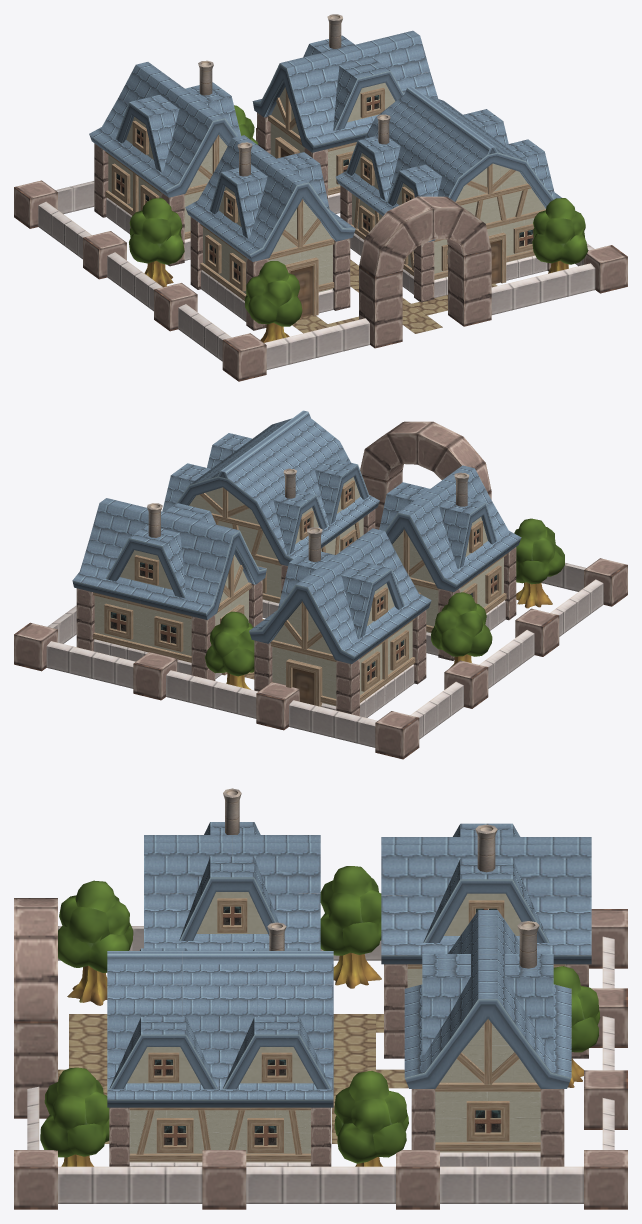
File: Town.fbx
The picture shows the model from 3 angles, top to bottom: view 1: azimuth 30°, elevation 25°; view 2: azimuth 150°, elevation 25°; view 3: azimuth 270°, elevation 25°; orthographic projection. The views are drawn at different scales.
Visible parts, largest first — view 1: Town; view 2: Town; view 3: Town.
Part boxes in pixels (x1,y1,x2,y2): Town: (14,14,627,381); Town: (14,410,627,759); Town: (14,788,627,1209).
Size of the model in its own units: 7 by 2.7 by 7.
